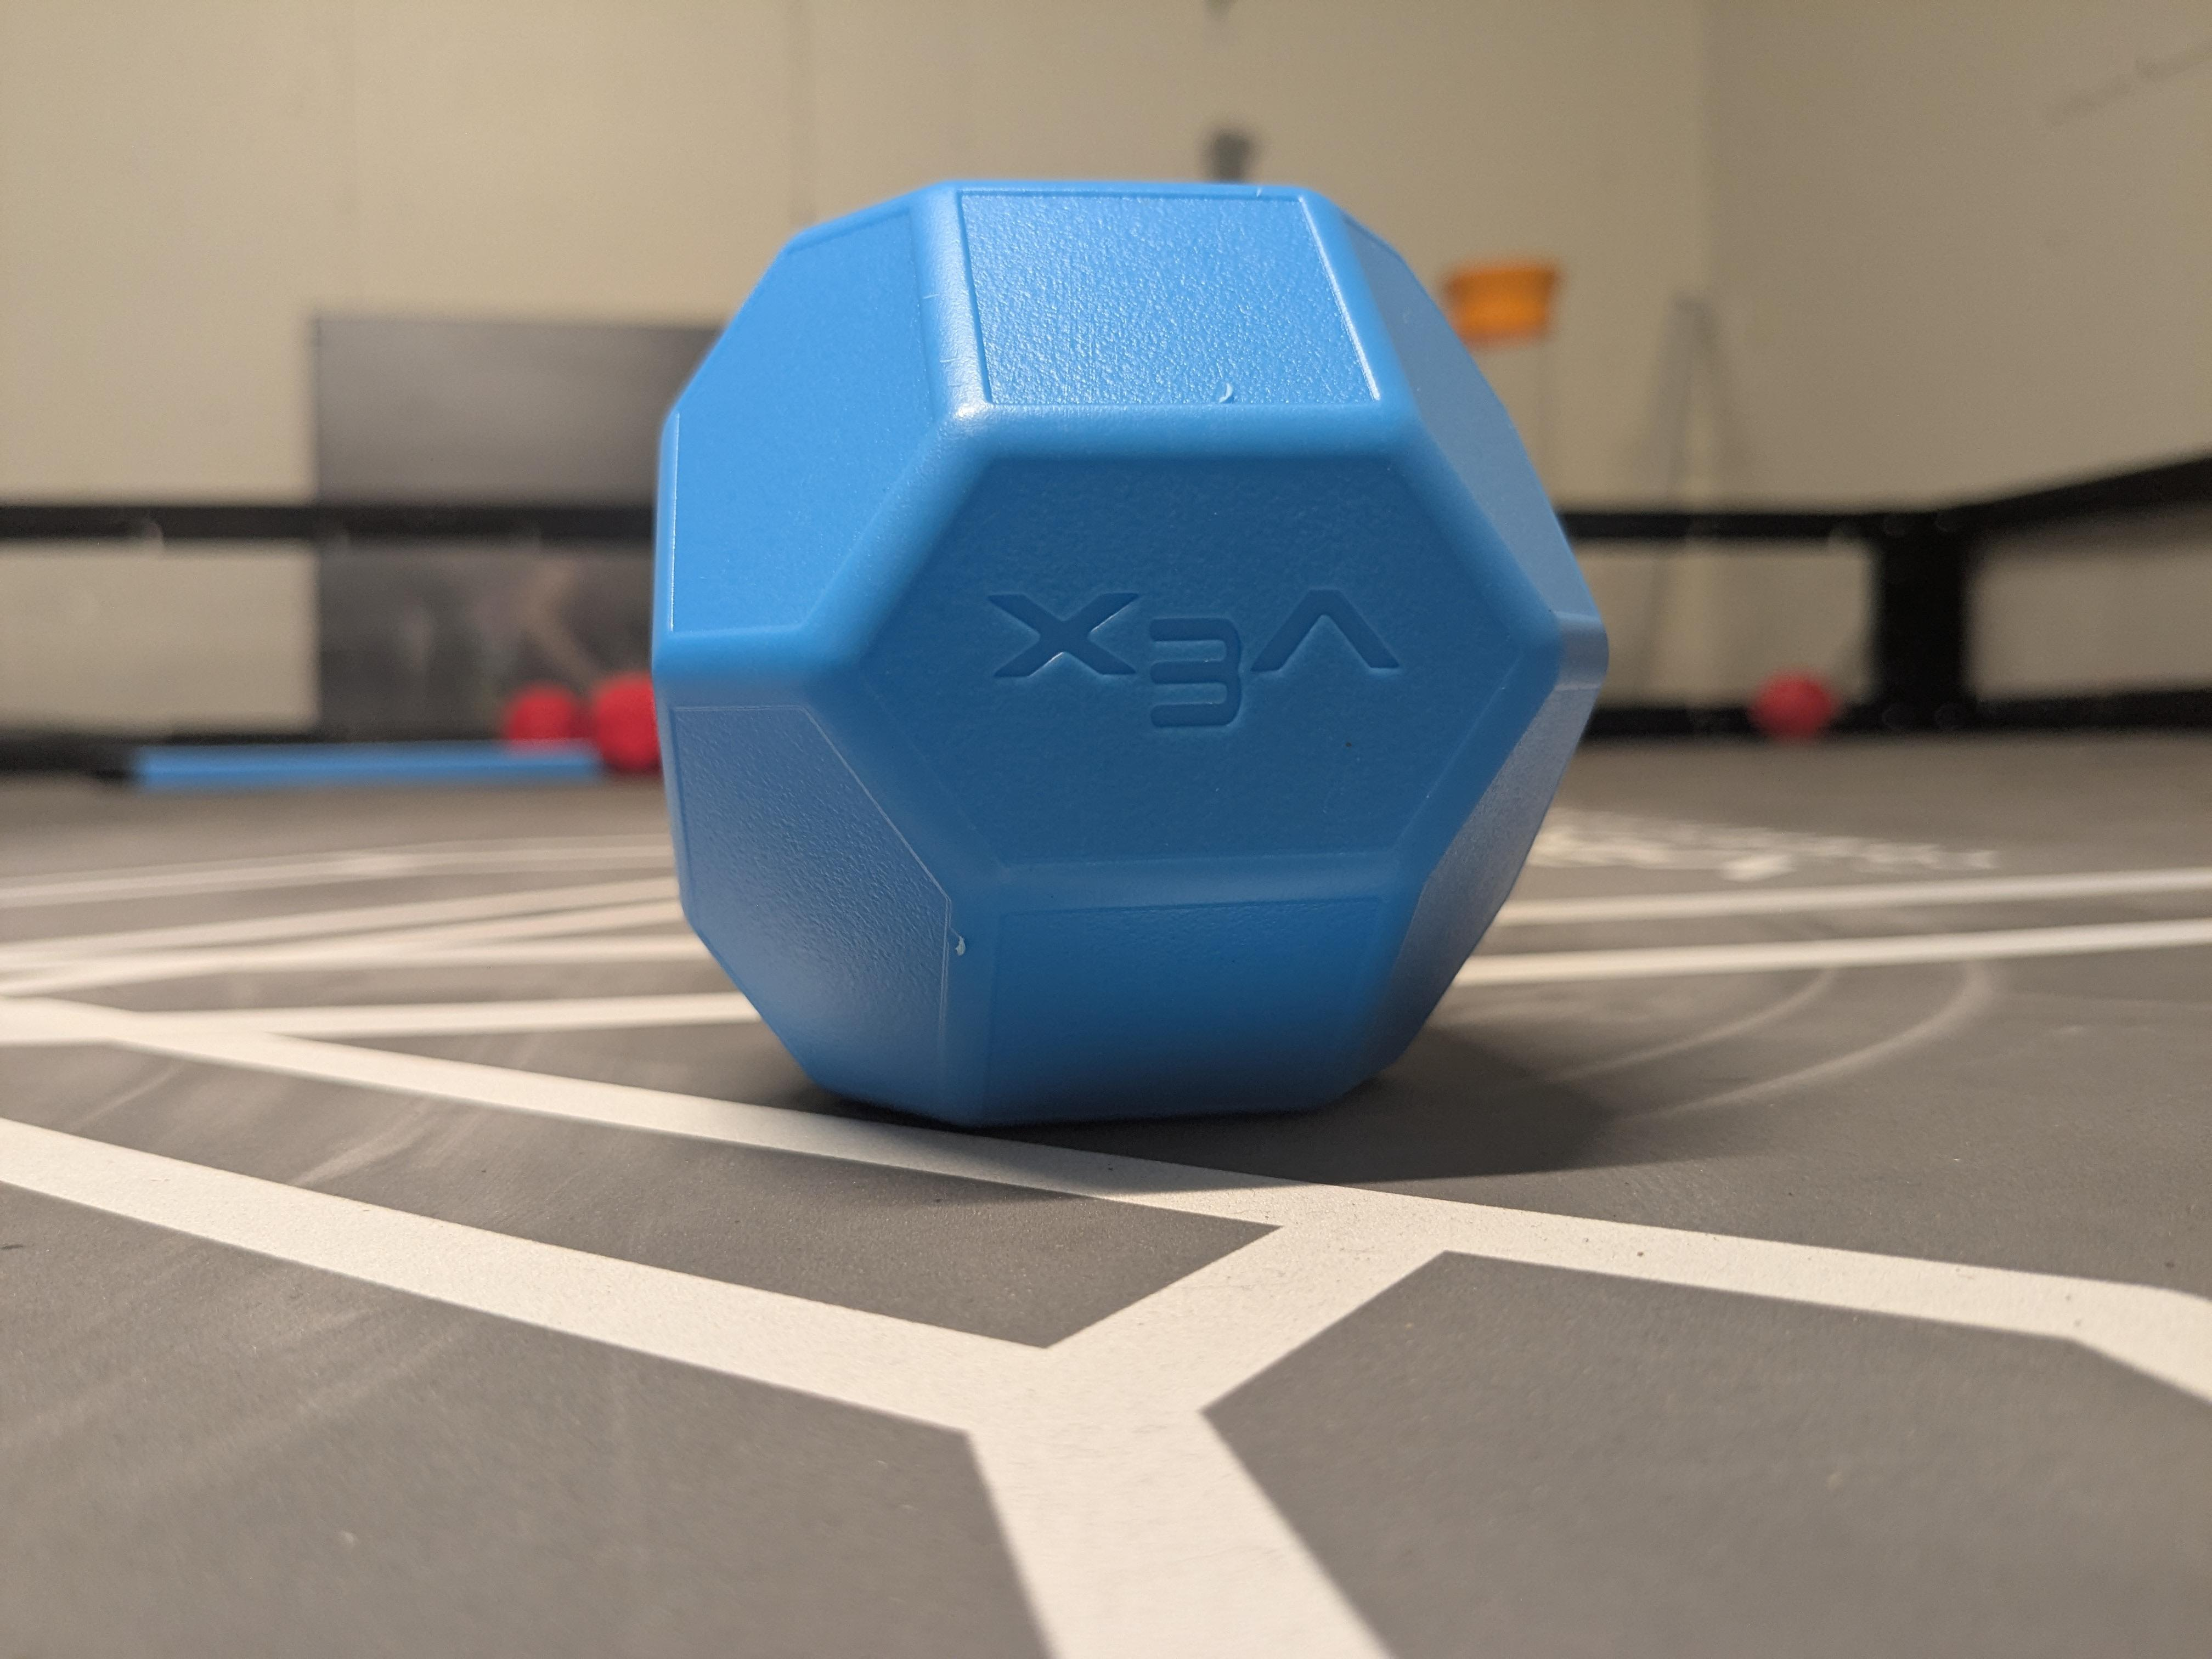Vex-Pieces-BLUE: (657, 186, 1602, 1127)
